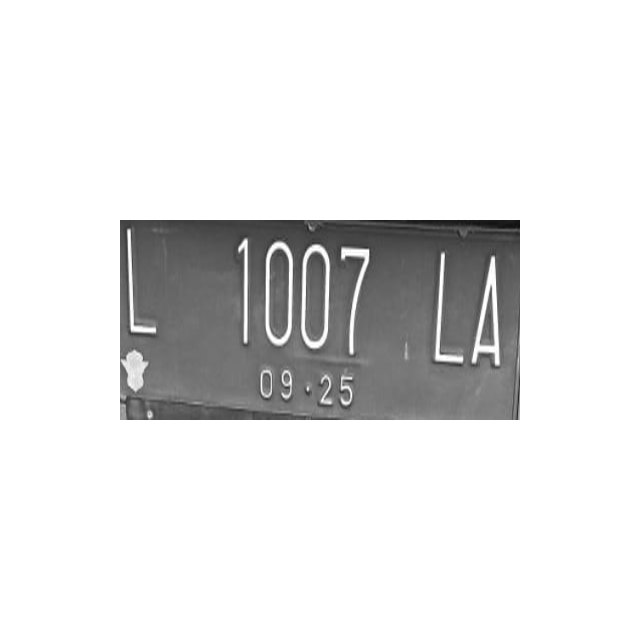contain: (122, 223, 170, 349), (208, 229, 256, 355), (257, 228, 296, 357), (295, 230, 334, 359), (337, 232, 376, 361), (428, 239, 467, 368), (467, 244, 506, 373)
